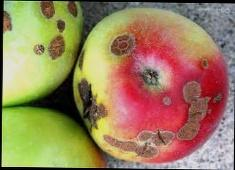rotten apple: (75, 5, 230, 169), (2, 1, 84, 109)
